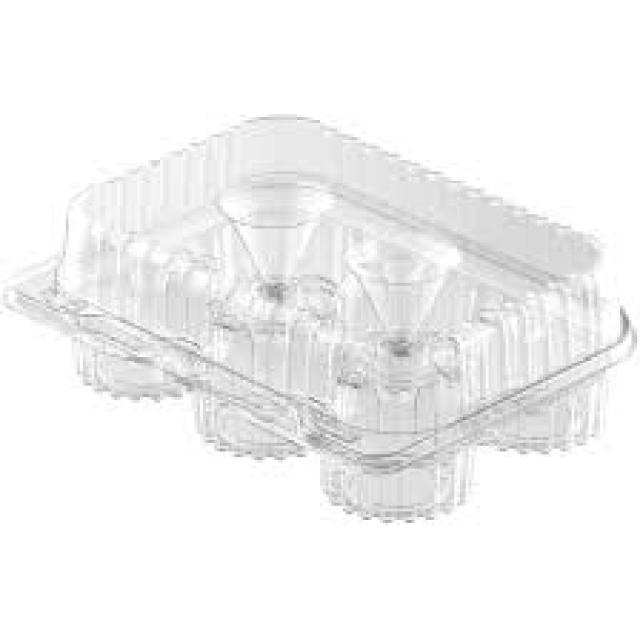disposable: (44, 91, 640, 542)
